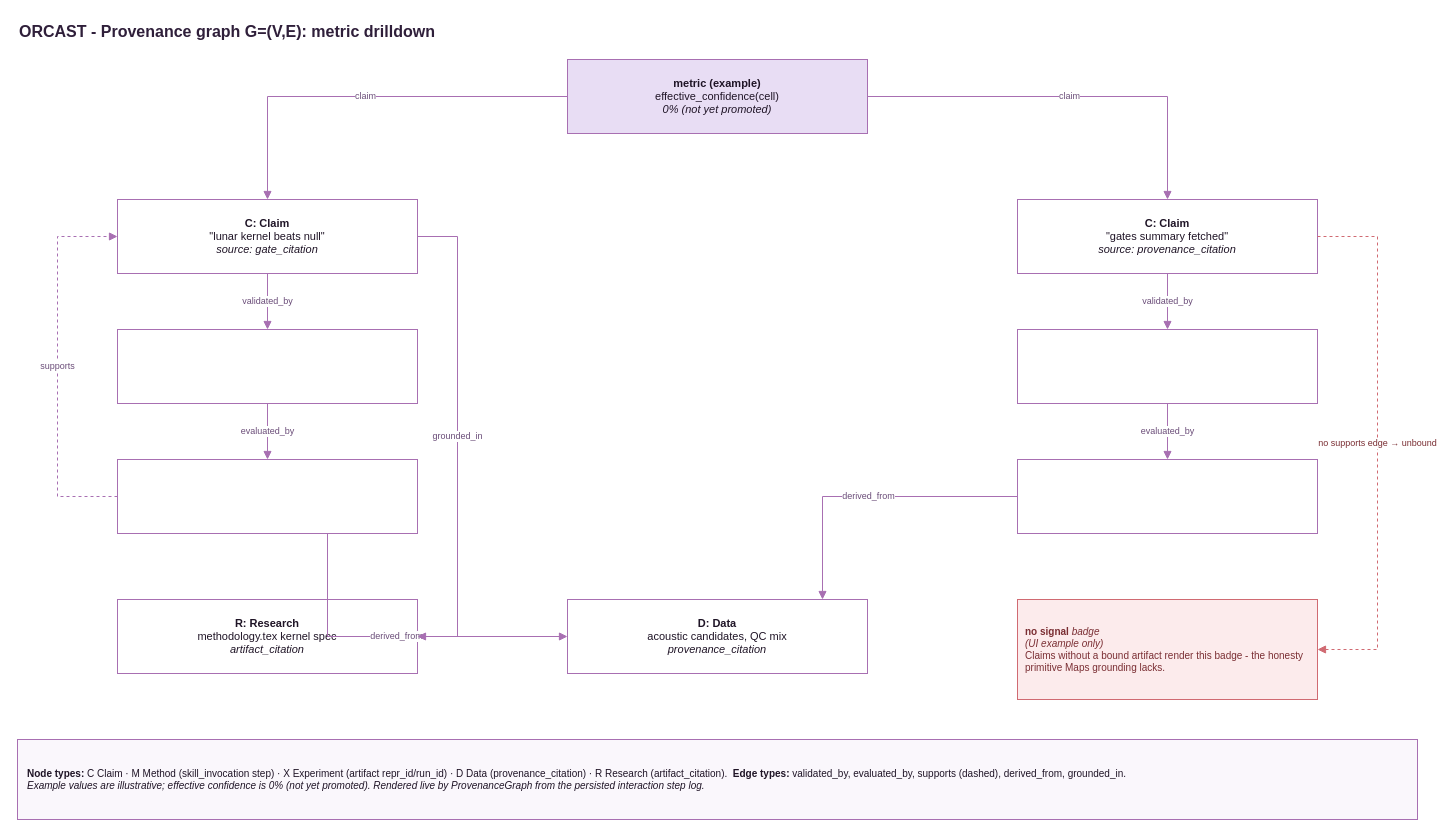
This 1454x837 diagram has some shape labels left out. The shapes that lost their labels are listed below. From the top down, each one's centre as x and y in pixels, then its label:
At point (267, 366): "M: Method fetch_gates (T0 public skill) skill_invocation step".
At point (1167, 366): "M: Method fetch_provenance (T1 geo skill) skill_invocation step".
At point (267, 496): "X: Experiment Level 1 PSTH (illustrative p=0.002) repr_id, run_id (artifact)".
At point (1167, 496): "X: Experiment KS test on τ passes (time-rescaling GoF)".
